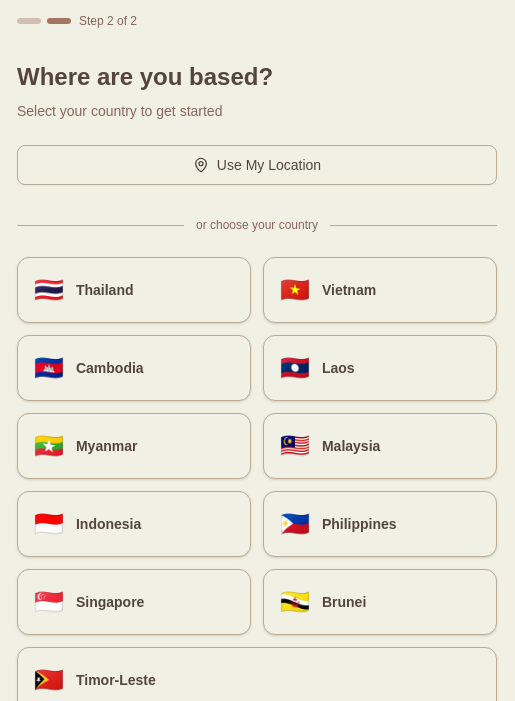
Scenario: HomeCitySection › uses reverse geocode when "Use My Location" succeeds
Click the button "Use My Location": click(257, 165) [17,145,497,185]
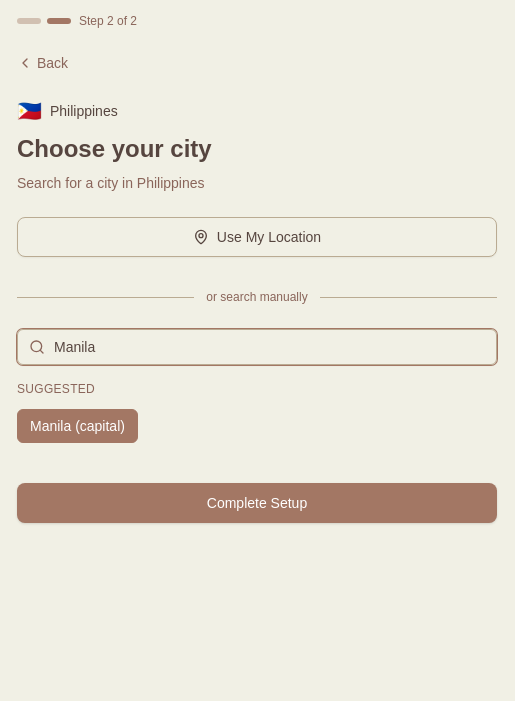
Expected: the field showing "Manila" is shown, [17,329,497,365]
